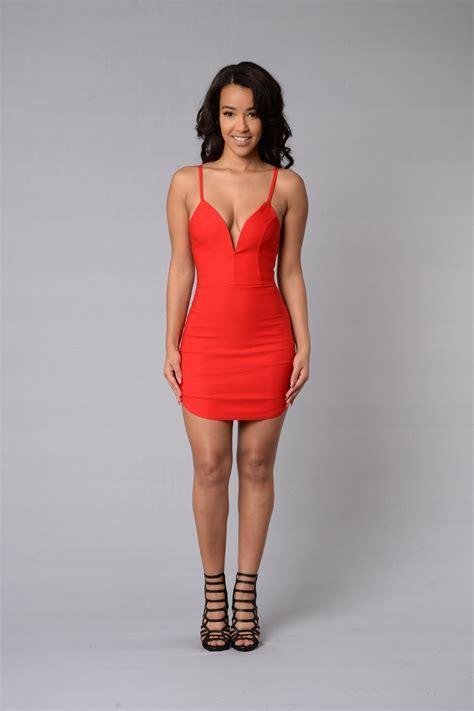dress: (178, 164, 296, 422)
